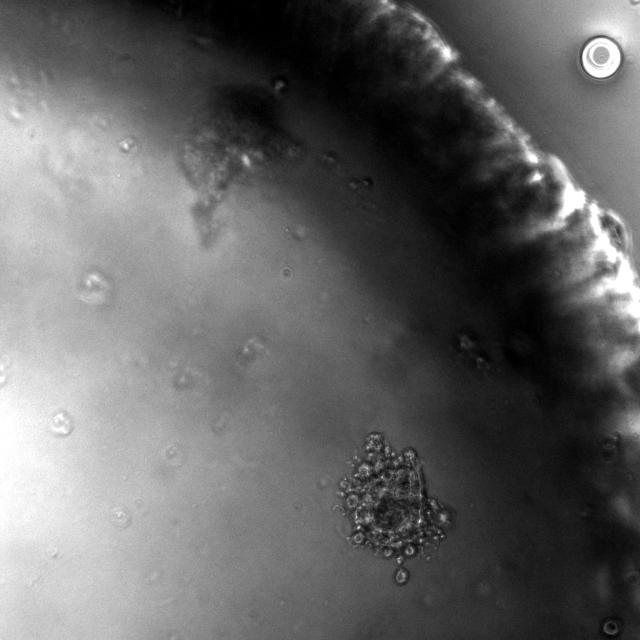organoid: (179, 85, 301, 247), (338, 431, 451, 585)
